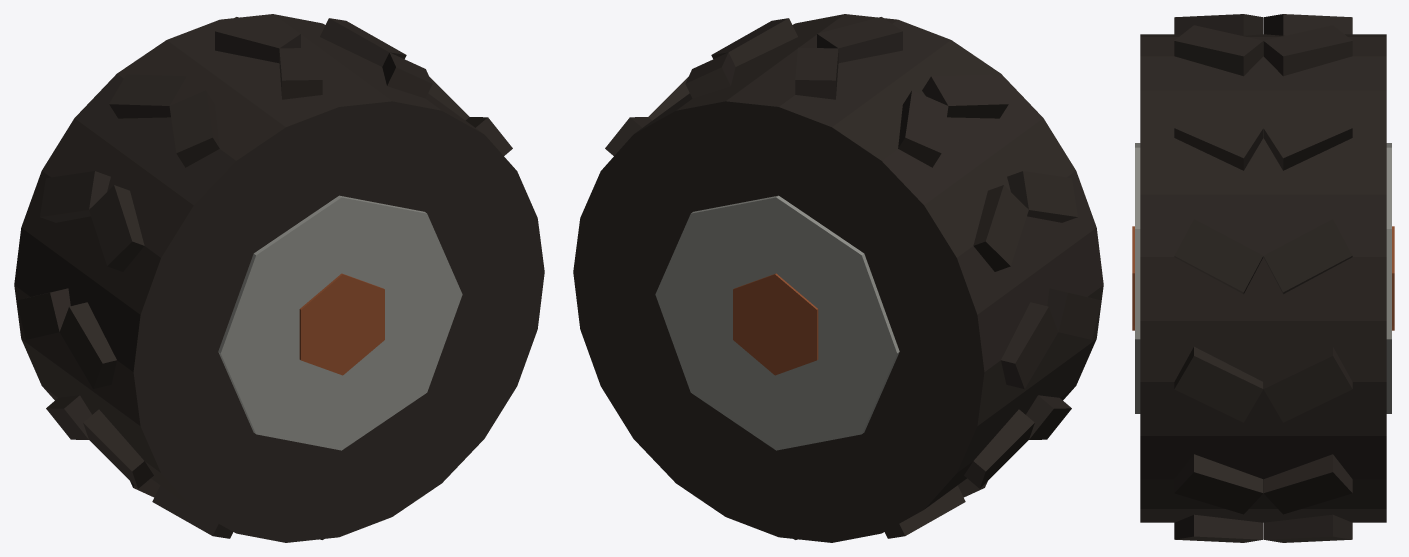
Rendered from wheel.glb.
3 views of the same model, side by side, from view 1: azimuth 30°, elevation 25°; view 2: azimuth 150°, elevation 25°; view 3: azimuth 270°, elevation 25° (orthographic). The views are drawn at different scales.
Visible parts, largest first — view 1: wheel; view 2: wheel; view 3: wheel.
Boxes of the visible parts, x1,y1,x2,y2 form: wheel: (14,14,544,542); wheel: (573,14,1103,542); wheel: (1132,14,1394,542).
Bounding box in the file's own units: 2 × 2 × 1.
